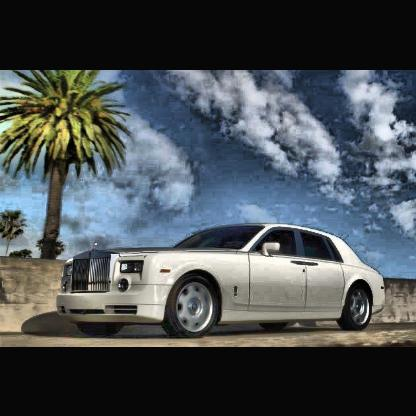Rolls-Royce Phantom Sedan 2012: (58, 225, 390, 341)
